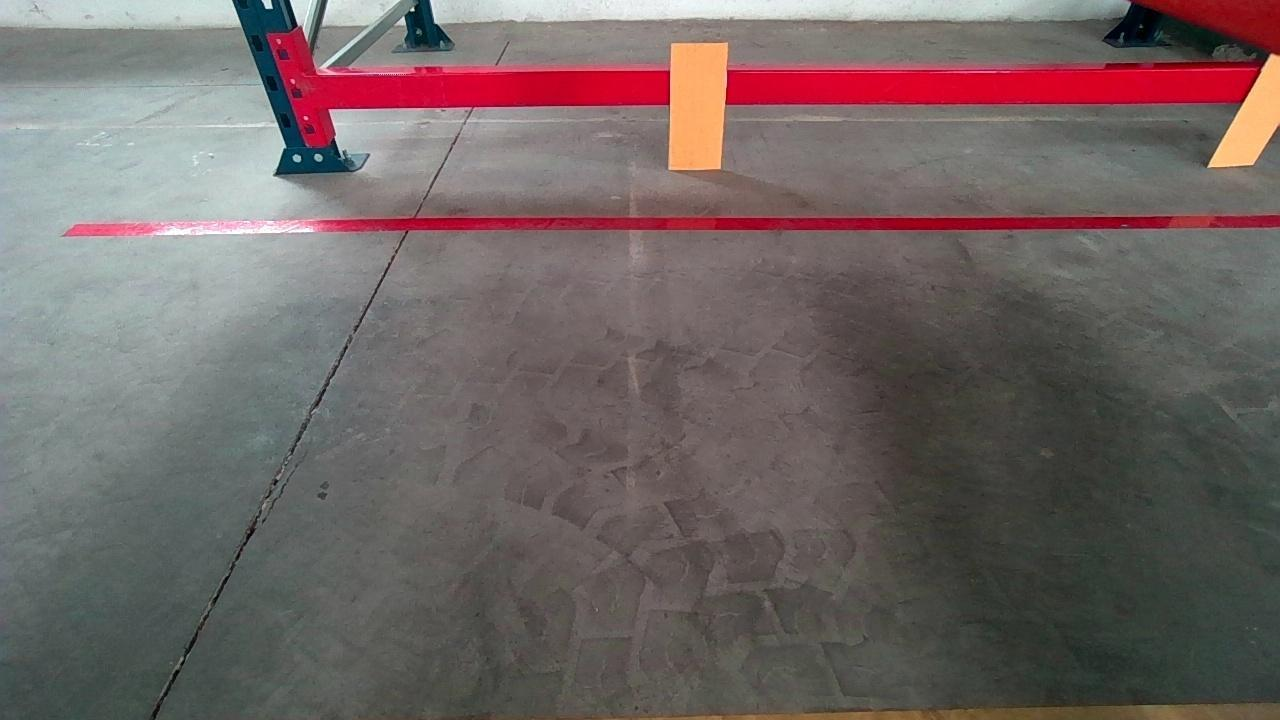h_rack: (322, 59, 1236, 114)
orange_strip: (1214, 50, 1280, 166), (669, 43, 727, 170)
red_line: (65, 206, 1270, 245)
yellow_line: (701, 693, 1280, 720)
